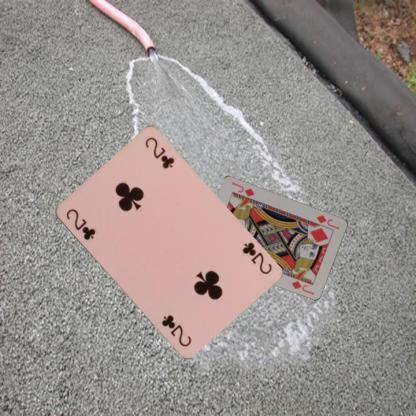2c: (239, 239, 273, 276), (63, 206, 96, 242)
Jd: (314, 212, 341, 231)
